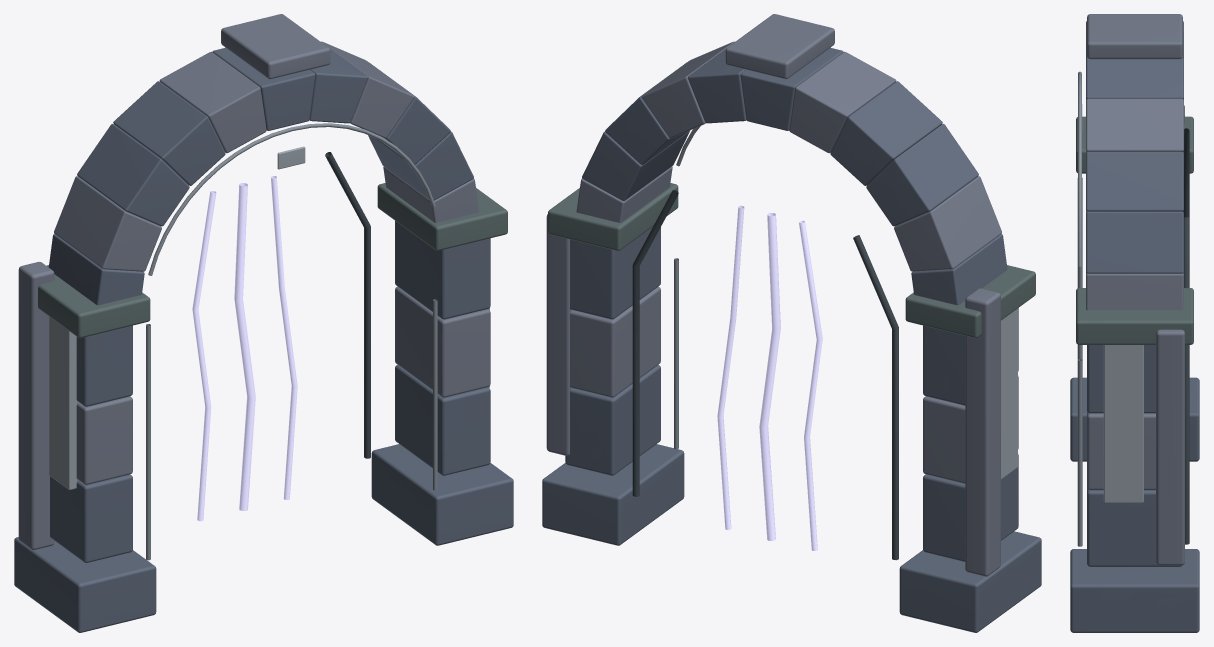
The model's file is BG_MEC_INNER_EXIT_001.glb.
3 renders of one model, left to right at view 1: azimuth 30°, elevation 25°; view 2: azimuth 150°, elevation 25°; view 3: azimuth 270°, elevation 25°, orthographic.
Visible parts, largest first — view 1: Dressed frame foot 1, Dressed frame foot -1, Rear stepped frame -1, Frame pier 1 0, Frame pier 1 1, Frame pier 1 2, Frame vault 8, Frame pier -1 0, Frame vault 7, Frame vault 9, Frame vault 6, Displaced crown (+19 smaller); view 2: Rear stepped frame -1, Dressed frame foot 1, Dressed frame foot -1, Frame pier 1 0, Frame pier 1 1, Frame vault 8, Frame vault 7, Frame vault 9, Frame vault 6, Frame pier 1 2, Rear stepped frame 1, Displaced crown (+19 smaller); view 3: Dressed frame foot 1, Rear stepped frame 1, Cold interrupted frame 1, Frame vault 1, Frame vault 2, Frame vault 3, Frame pier 1 0, Displaced crown, Frame impost 1, Frame vault 4, Frame vault 0, Frame pier 1 1 (+8 smaller).
Boxes of the visible parts, x1,y1,x2,y2 form: Dressed frame foot 1: (371, 444, 513, 545); Dressed frame foot -1: (14, 537, 156, 632); Rear stepped frame -1: (18, 262, 54, 549); Frame pier 1 0: (395, 365, 490, 475); Frame pier 1 1: (395, 286, 490, 397); Frame pier 1 2: (395, 221, 490, 319); Frame vault 8: (77, 124, 189, 226); Frame pier -1 0: (50, 474, 132, 562); Frame vault 7: (113, 81, 225, 185); Frame vault 9: (54, 176, 161, 271); Frame vault 6: (159, 51, 266, 153); Displaced crown: (221, 14, 330, 79); Rear stepped frame -1: (965, 288, 1000, 576); Dressed frame foot 1: (542, 444, 684, 545); Dressed frame foot -1: (899, 531, 1041, 632); Frame pier 1 0: (565, 365, 660, 475); Frame pier 1 1: (570, 286, 660, 397); Frame vault 8: (866, 124, 978, 226); Frame vault 7: (830, 81, 942, 185); Frame vault 9: (894, 176, 1001, 271); Frame vault 6: (789, 51, 896, 153); Frame pier 1 2: (570, 226, 660, 319); Rear stepped frame 1: (546, 214, 571, 455); Displaced crown: (725, 14, 834, 79); Dressed frame foot 1: (1070, 549, 1199, 632); Rear stepped frame 1: (1156, 329, 1184, 565); Cold interrupted frame 1: (1103, 345, 1143, 502); Frame vault 1: (1086, 211, 1183, 273); Frame vault 2: (1086, 151, 1183, 212); Frame vault 3: (1086, 98, 1183, 152); Frame pier 1 0: (1087, 487, 1181, 566); Displaced crown: (1087, 14, 1182, 59); Frame impost 1: (1076, 288, 1193, 344); Frame vault 4: (1086, 57, 1183, 99); Frame vault 0: (1086, 272, 1183, 310); Frame pier 1 1: (1087, 411, 1155, 490).
Bounding box in the file's own units: 2.25 × 2.51 × 0.58.
Materials: 7 (1 with a texture image).
